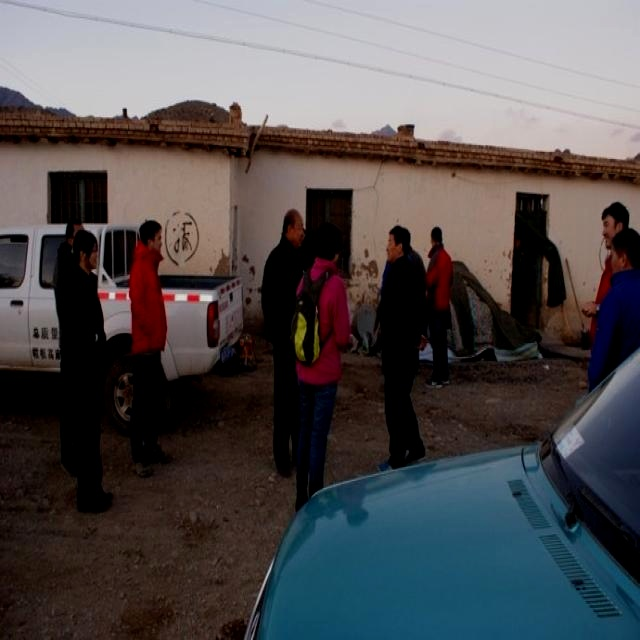Sin_Casco_Mascarrilla: (386, 225, 412, 263), (281, 209, 302, 248)
Sin_Chaleco: (296, 266, 348, 381), (129, 256, 168, 352)
